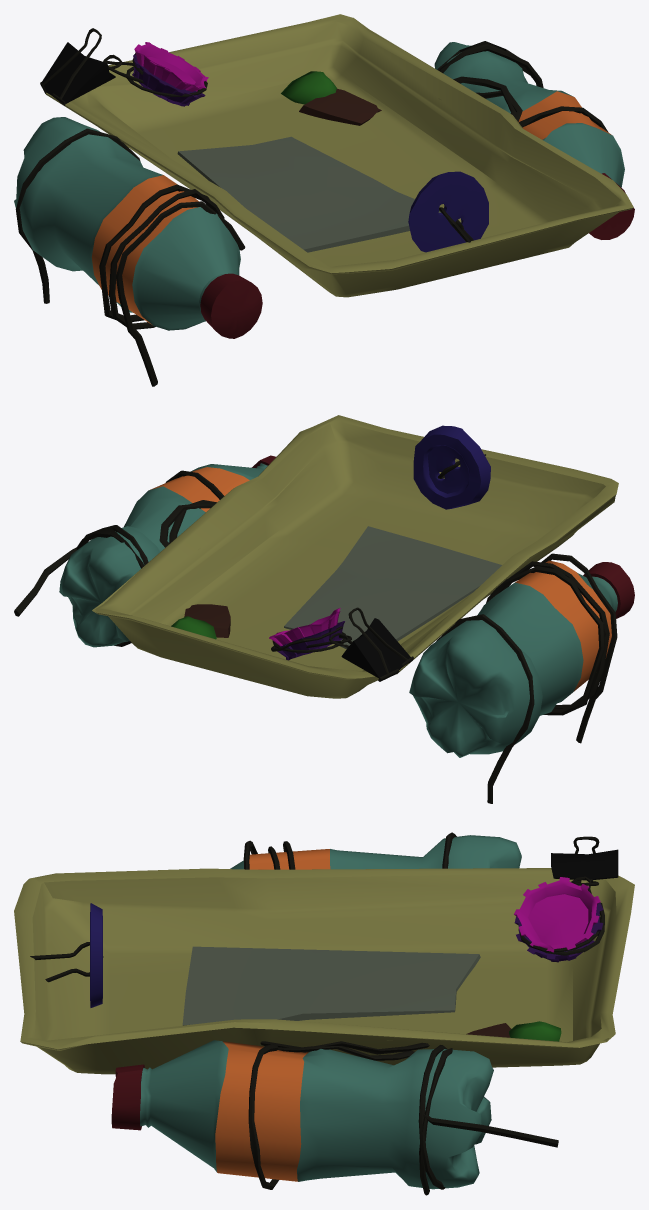
Rendered from Sushi_Boat.fbx.
3 renders of one model, top to bottom at view 1: azimuth 30°, elevation 25°; view 2: azimuth 150°, elevation 25°; view 3: azimuth 270°, elevation 25°, orthographic. The views are drawn at different scales.
Parts seen in each view (by area): view 1: Sushi_Boat; view 2: Sushi_Boat; view 3: Sushi_Boat.
Boxes of the visible parts, left/top/right/bottom form: Sushi_Boat: left=14, top=14, right=634, bottom=386; Sushi_Boat: left=14, top=415, right=634, bottom=803; Sushi_Boat: left=14, top=832, right=634, bottom=1195.
Bounding box in the file's own units: 275 × 117 × 267.
